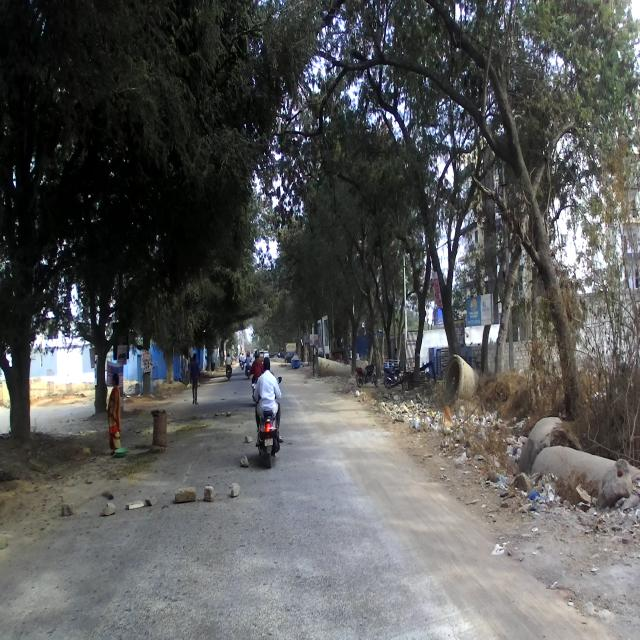barrier ahead at: (147, 402, 170, 466)
motorcycle ahead at: (249, 404, 286, 469)
person ahead at: (102, 370, 128, 463)
stones ahead at: (58, 483, 245, 519)
tree ahead at: (1, 242, 46, 457)
